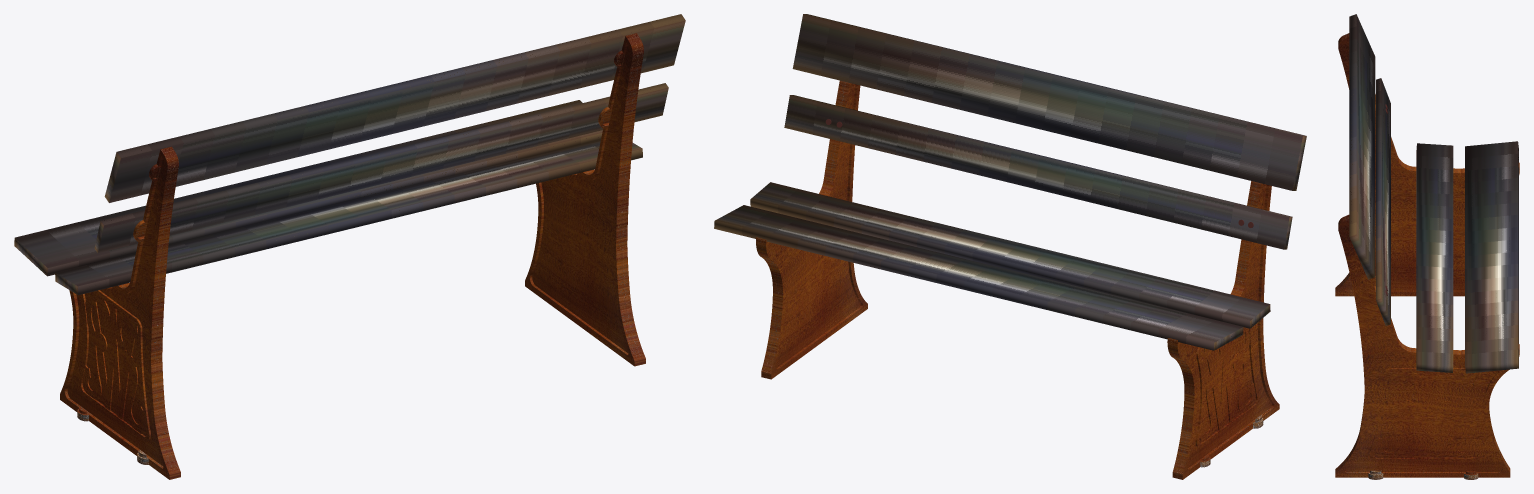
3 renders of one model, left to right at view 1: azimuth 30°, elevation 25°; view 2: azimuth 150°, elevation 25°; view 3: azimuth 270°, elevation 25°, orthographic. The views are drawn at different scales.
Visible parts, largest first — view 1: mesh5_mesh5-geometry, mesh1_mesh1-geometry, mesh2_mesh2-geometry, mesh3_mesh3-geometry, mesh6_mesh6-geometry, mesh4_mesh4-geometry; view 2: mesh5_mesh5-geometry, mesh3_mesh3-geometry, mesh4_mesh4-geometry, mesh6_mesh6-geometry, mesh1_mesh1-geometry, mesh2_mesh2-geometry; view 3: mesh2_mesh2-geometry, mesh4_mesh4-geometry, mesh6_mesh6-geometry, mesh5_mesh5-geometry, mesh1_mesh1-geometry, mesh3_mesh3-geometry.
Part boxes in pixels (x1,y1,x2,y2): mesh5_mesh5-geometry: [104, 14, 685, 202]; mesh1_mesh1-geometry: [60, 146, 180, 479]; mesh2_mesh2-geometry: [525, 33, 645, 366]; mesh3_mesh3-geometry: [94, 83, 668, 253]; mesh6_mesh6-geometry: [55, 139, 642, 295]; mesh4_mesh4-geometry: [14, 100, 602, 276]; mesh5_mesh5-geometry: [792, 14, 1306, 190]; mesh3_mesh3-geometry: [784, 95, 1292, 249]; mesh4_mesh4-geometry: [714, 205, 1243, 350]; mesh6_mesh6-geometry: [750, 182, 1270, 328]; mesh1_mesh1-geometry: [1167, 181, 1279, 479]; mesh2_mesh2-geometry: [756, 80, 867, 379]; mesh2_mesh2-geometry: [1335, 214, 1519, 479]; mesh4_mesh4-geometry: [1465, 141, 1518, 373]; mesh6_mesh6-geometry: [1416, 143, 1453, 372]; mesh5_mesh5-geometry: [1349, 14, 1375, 279]; mesh1_mesh1-geometry: [1335, 33, 1519, 296]; mesh3_mesh3-geometry: [1376, 78, 1390, 325].
Bounding box in the file's own units: 0.8357 × 0.4632 × 0.2952.
